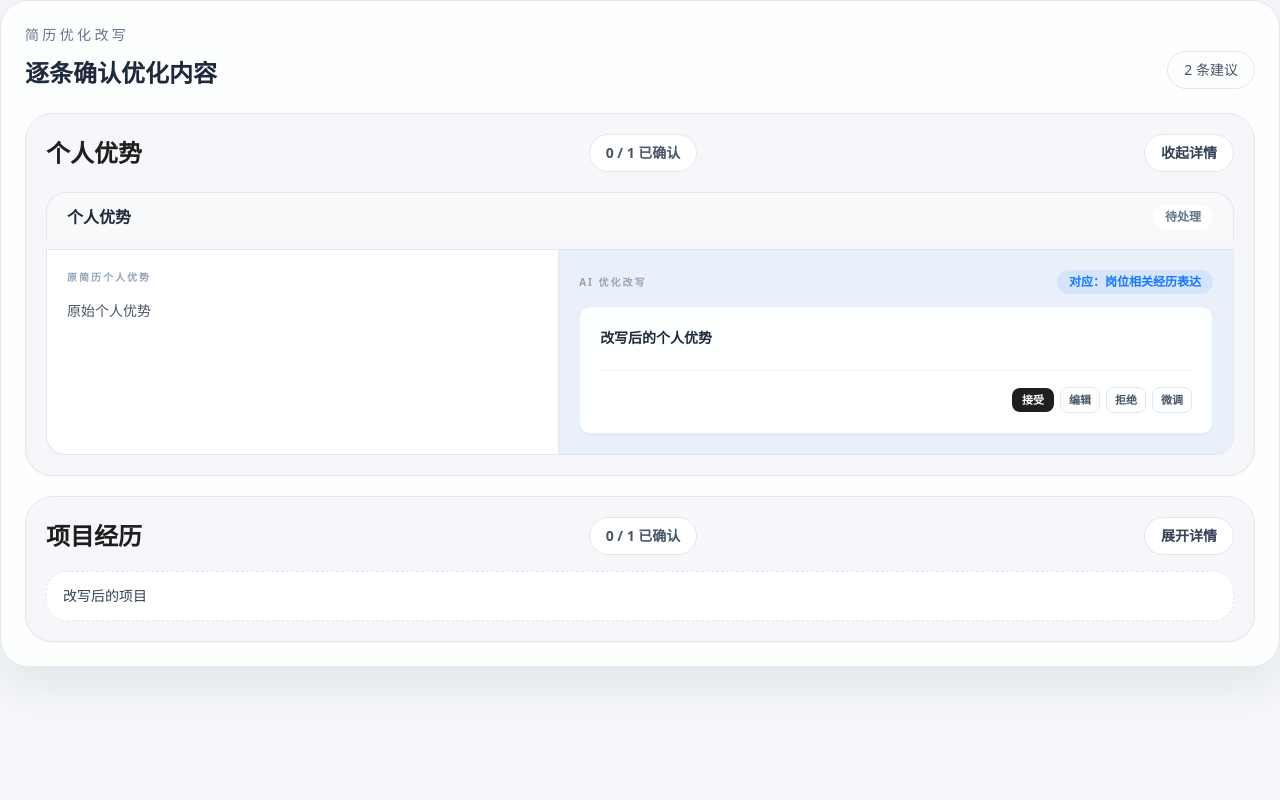
SuggestionList › collapses a completed group again after reopening and confirming it
This screenshot has width=1280, height=800.
Click the button "接受". click: [1033, 400]
box: x1=1012 y1=388 x2=1054 y2=412
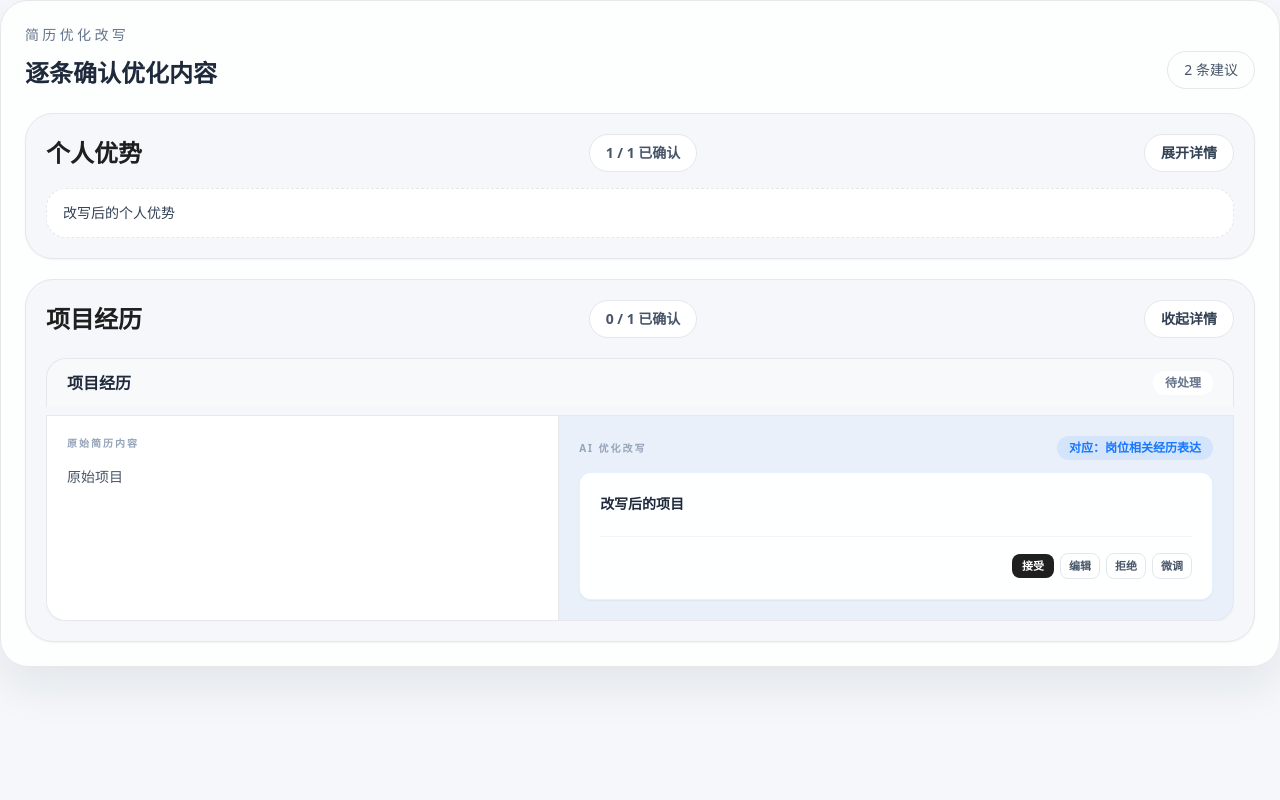
expect the text "项目经历" is shown: met, box x1=46 y1=303 x2=142 y2=335
Click the text "展开详情". click: [1189, 153]
box: x1=1144 y1=134 x2=1234 y2=172
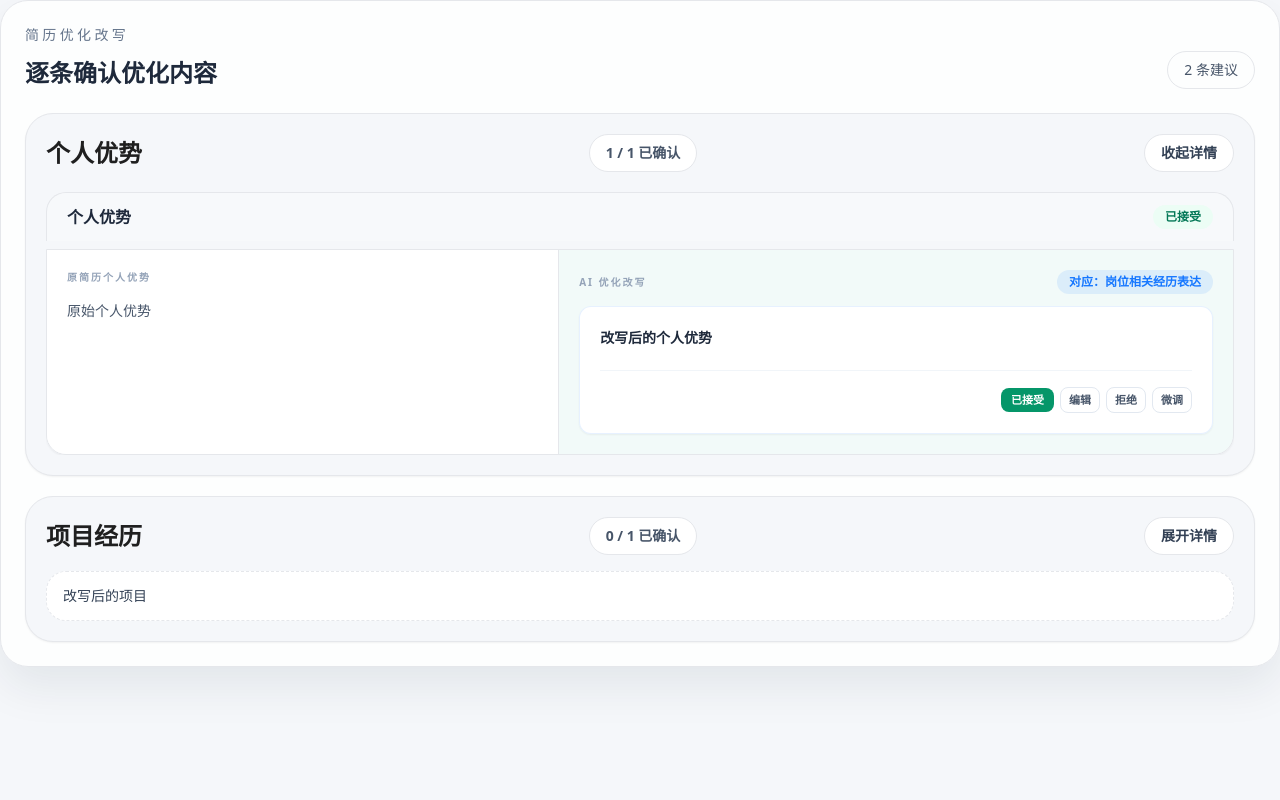
Click the button "已接受". click: [1028, 400]
box: x1=1001 y1=388 x2=1054 y2=412
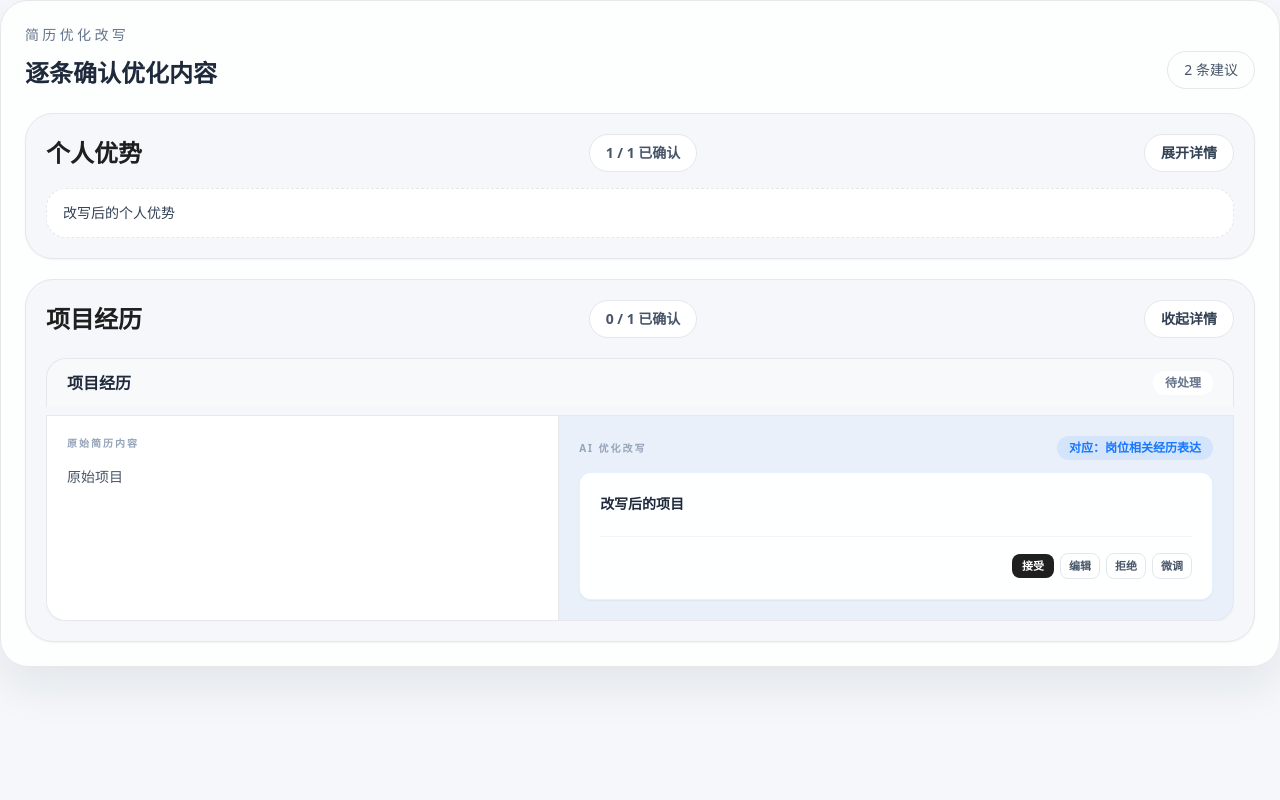
expect the text "展开详情" is shown: met, box x1=1144 y1=134 x2=1234 y2=172
